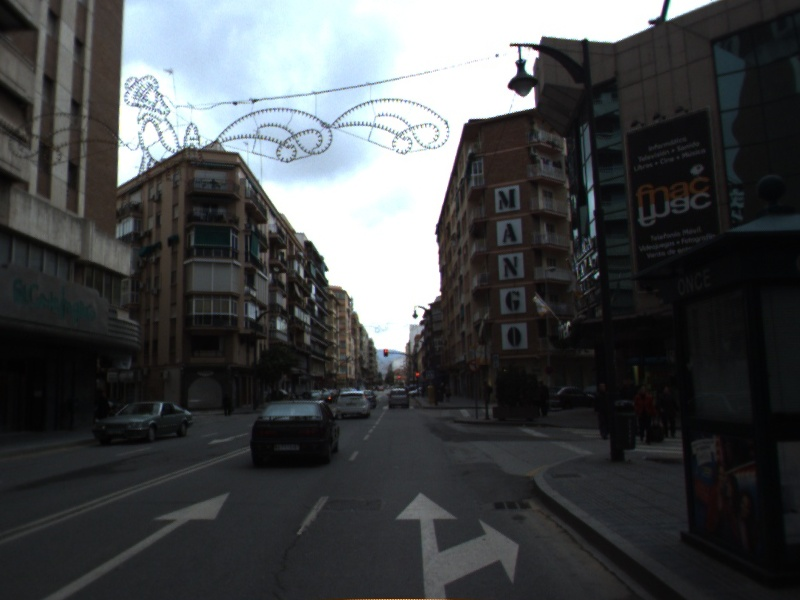STRAIGHT: (43, 490, 232, 600)
STRAIGHT_RIGHT: (393, 491, 520, 600)
